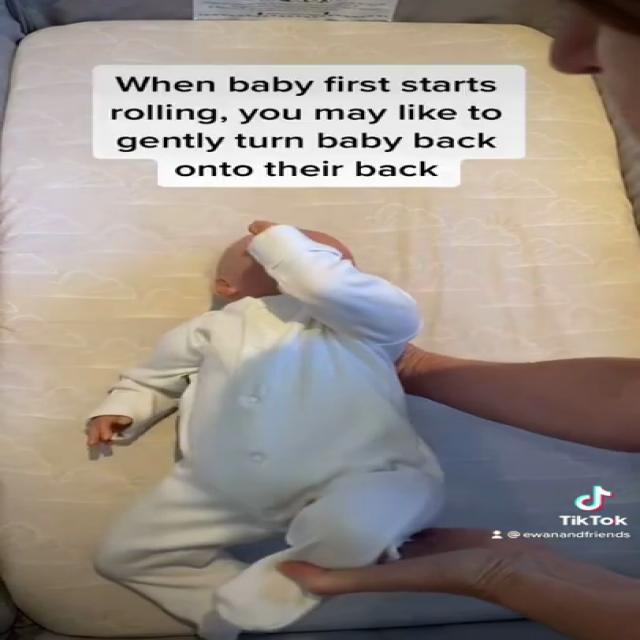baby: (70, 217, 448, 640)
